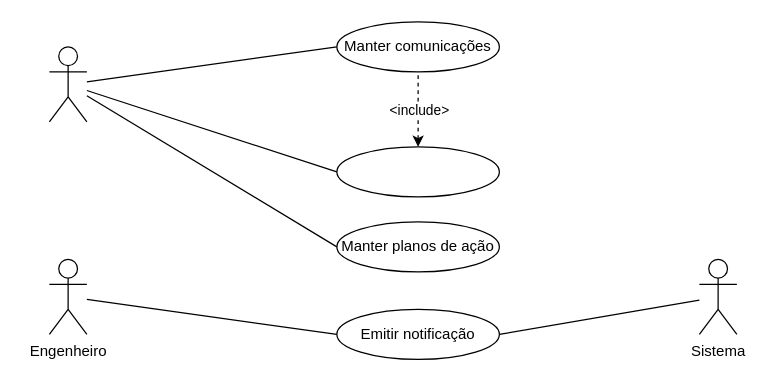
Some shapes in this 766 by 383 pixel diagram are drawn without their labels. The box of each missing label's shape, as (x1, y1, x2, y2) in pixels:
Administrador: (48, 46, 87, 122)
Manter pessoas: (336, 146, 499, 197)
